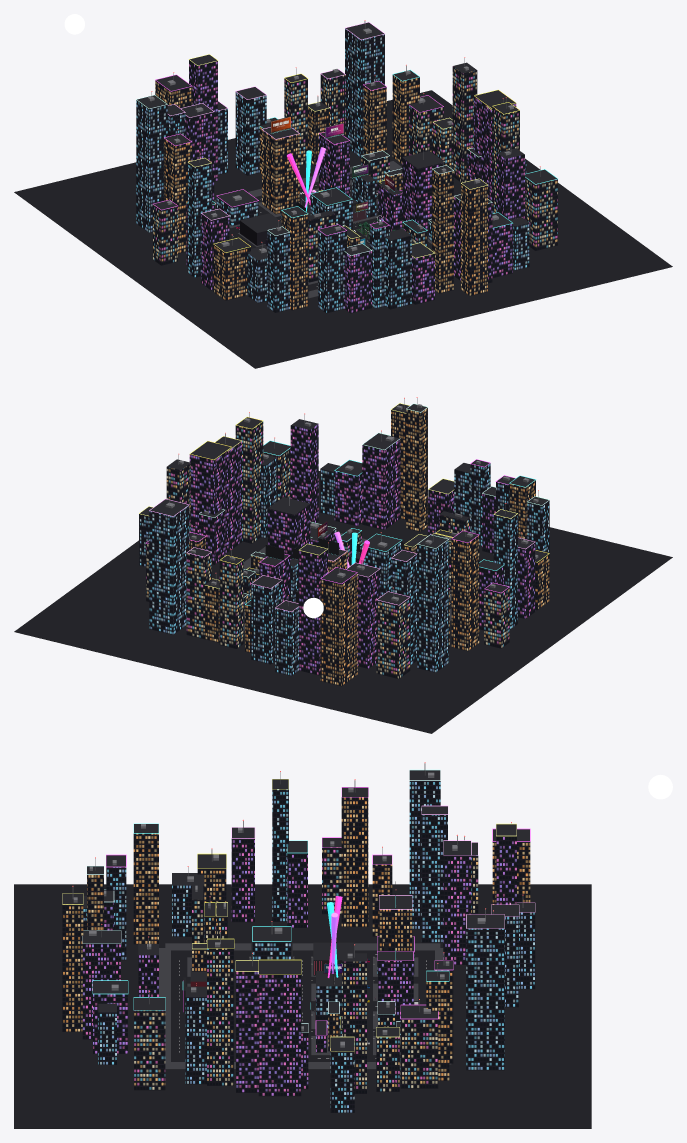
File: Lucid_State_City.glb
3 renders of one model, top to bottom at view 1: azimuth 30°, elevation 25°; view 2: azimuth 150°, elevation 25°; view 3: azimuth 270°, elevation 25°, orthographic. The views are drawn at different scales.
Visible parts, largest first — view 1: GROUND_Asphalt, SKYLINE_07, SKYLINE_19, SKYLINE_36, VENUE_Hotel_Lucid, SKYLINE_35, SKYLINE_02, SKYLINE_41, SKYLINE_12, SKYLINE_30, SKYLINE_24, BLD_31_0 (+37 smaller); view 2: GROUND_Asphalt, SKYLINE_07, SKYLINE_19, SKYLINE_15, SKYLINE_37, SKYLINE_21, SKYLINE_17, SKYLINE_45, SKYLINE_14, SKYLINE_35, SKYLINE_43, SKYLINE_40 (+31 smaller); view 3: GROUND_Asphalt, SKYLINE_07, SKYLINE_45, SKYLINE_43, SKYLINE_21, SKYLINE_18, SKYLINE_16, SKYLINE_04, SKYLINE_29, SKYLINE_44, SKYLINE_41, SKYLINE_36 (+33 smaller).
Part boxes in pixels (<box>): GROUND_Asphalt: <box>14,90,672,368</box>; SKYLINE_07: <box>345,22,384,157</box>; SKYLINE_19: <box>136,95,167,232</box>; SKYLINE_36: <box>461,179,487,296</box>; VENUE_Hotel_Lucid: <box>262,127,299,214</box>; SKYLINE_35: <box>432,165,453,293</box>; SKYLINE_02: <box>452,62,477,182</box>; SKYLINE_41: <box>525,169,557,250</box>; SKYLINE_12: <box>235,87,266,175</box>; SKYLINE_30: <box>318,224,346,313</box>; SKYLINE_24: <box>187,158,211,277</box>; BLD_31_0: <box>402,151,444,228</box>; GROUND_Asphalt: <box>14,471,672,733</box>; SKYLINE_07: <box>149,499,189,634</box>; SKYLINE_19: <box>417,535,448,672</box>; SKYLINE_15: <box>320,567,357,686</box>; SKYLINE_37: <box>362,433,400,529</box>; SKYLINE_21: <box>451,531,479,651</box>; SKYLINE_17: <box>376,592,410,678</box>; SKYLINE_45: <box>189,441,231,553</box>; SKYLINE_14: <box>298,544,327,675</box>; SKYLINE_35: <box>406,404,427,531</box>; SKYLINE_43: <box>235,417,263,543</box>; SKYLINE_40: <box>290,419,318,522</box>; GROUND_Asphalt: <box>14,884,591,1128</box>; SKYLINE_07: <box>466,914,504,1070</box>; SKYLINE_45: <box>258,960,301,1096</box>; SKYLINE_43: <box>207,939,233,1085</box>; SKYLINE_21: <box>341,787,368,926</box>; SKYLINE_18: <box>421,806,447,942</box>; SKYLINE_16: <box>443,841,471,964</box>; SKYLINE_04: <box>400,1005,438,1088</box>; SKYLINE_29: <box>133,824,158,944</box>; SKYLINE_44: <box>236,960,258,1092</box>; SKYLINE_41: <box>134,997,165,1090</box>; SKYLINE_36: <box>62,893,83,1031</box>.
Size of the model in its own units: 420 by 130 by 479.
Materials: 168 (25 with a texture image).
